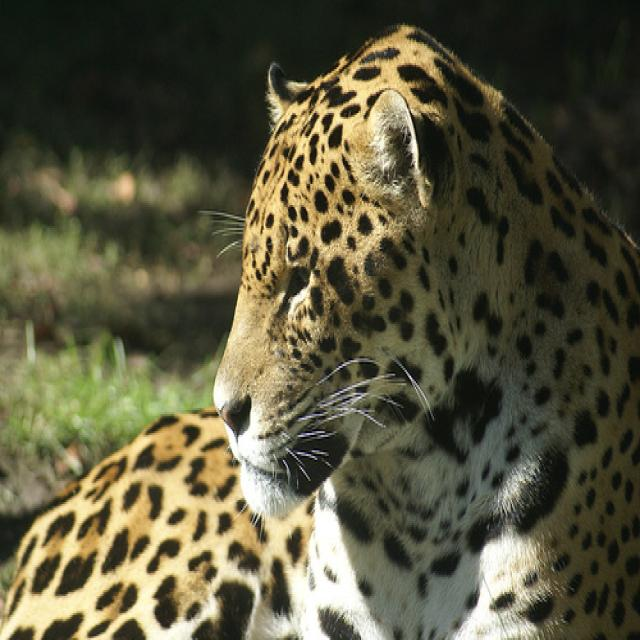Leopard: (0, 19, 637, 636)
